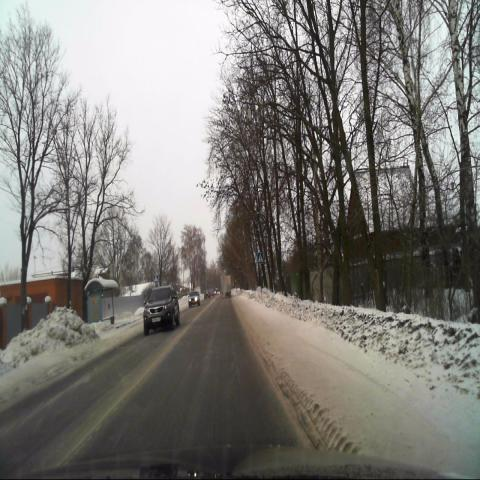5_19_1: (257, 253, 263, 264)
